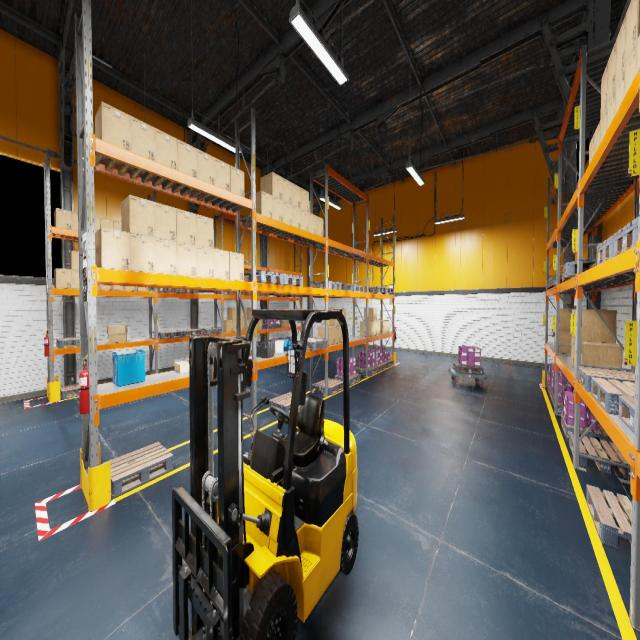box: (95, 101, 130, 150), (95, 227, 130, 270), (121, 194, 154, 237), (574, 310, 616, 343), (581, 342, 622, 371), (130, 116, 156, 160), (625, 0, 640, 65), (130, 233, 155, 272), (156, 128, 178, 169), (154, 202, 177, 241), (154, 238, 177, 274), (177, 139, 197, 178), (616, 14, 626, 86), (176, 208, 196, 244), (624, 42, 636, 96), (177, 242, 196, 276), (260, 172, 282, 200), (197, 149, 214, 185), (196, 214, 214, 248), (250, 191, 272, 218), (196, 245, 214, 278), (214, 157, 230, 190), (608, 39, 616, 104), (559, 309, 582, 330), (615, 67, 625, 114), (214, 248, 229, 279), (600, 61, 608, 119), (230, 165, 244, 197), (229, 252, 244, 281), (571, 309, 585, 339), (107, 324, 128, 342), (54, 208, 72, 229), (54, 268, 72, 288), (607, 87, 615, 130), (318, 325, 334, 345), (559, 330, 571, 354), (324, 308, 340, 326), (600, 105, 607, 143), (282, 178, 292, 204), (272, 196, 282, 222), (282, 201, 292, 225), (594, 120, 600, 155), (292, 183, 300, 208), (69, 250, 79, 270), (292, 205, 300, 228), (360, 322, 373, 336), (301, 187, 308, 212), (377, 320, 390, 333), (175, 361, 189, 373), (100, 217, 114, 229), (636, 34, 640, 74), (364, 308, 376, 321), (589, 133, 594, 164), (309, 212, 316, 234), (301, 209, 308, 231), (316, 216, 323, 236), (72, 270, 79, 288), (72, 211, 78, 230), (227, 308, 236, 320), (224, 319, 232, 332), (247, 308, 257, 318), (571, 338, 574, 368), (335, 326, 340, 344), (95, 216, 100, 232), (340, 308, 346, 320), (114, 220, 121, 230), (244, 319, 250, 330), (280, 320, 289, 327), (101, 285, 113, 290), (126, 286, 137, 291), (373, 322, 377, 335), (114, 286, 125, 290), (377, 321, 380, 335), (258, 319, 262, 329), (138, 287, 148, 291), (241, 307, 244, 319), (241, 319, 244, 331), (233, 320, 236, 332), (340, 327, 342, 342), (574, 340, 575, 369), (554, 332, 555, 348), (98, 285, 100, 289), (187, 359, 189, 362), (553, 331, 554, 336)
forklift: (189, 310, 358, 640)
pallets: (102, 442, 173, 497), (586, 485, 632, 549), (569, 433, 628, 479), (591, 377, 635, 415), (561, 414, 613, 444), (578, 366, 634, 392), (614, 217, 638, 256), (269, 392, 300, 414), (563, 260, 597, 278), (618, 395, 634, 433), (596, 235, 614, 265), (244, 271, 283, 284), (315, 378, 343, 395), (266, 274, 303, 286), (454, 362, 484, 375), (562, 268, 589, 282), (298, 338, 328, 350), (334, 373, 361, 386), (60, 384, 79, 399), (56, 337, 80, 348), (313, 281, 341, 290), (158, 330, 183, 339), (356, 366, 378, 376), (553, 395, 563, 414), (342, 284, 364, 292), (178, 329, 203, 336), (199, 328, 221, 335), (365, 286, 386, 293), (550, 276, 562, 287), (337, 283, 352, 291), (374, 362, 386, 372), (547, 280, 561, 288), (152, 288, 178, 292), (382, 359, 393, 368), (378, 288, 393, 294), (262, 324, 280, 328), (179, 289, 196, 293), (217, 291, 235, 294), (251, 292, 264, 296), (233, 292, 250, 295), (550, 388, 553, 403), (547, 382, 550, 394)
